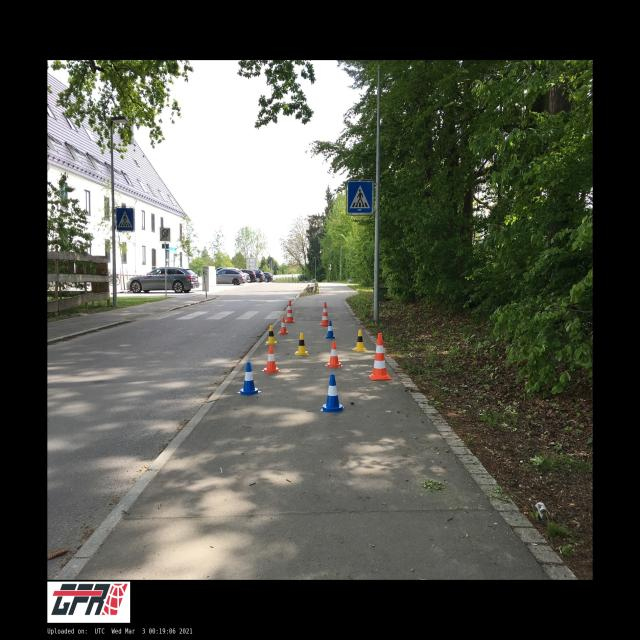blue_cone: (320, 373, 344, 412), (237, 362, 262, 396), (324, 321, 336, 338)
large_orange_cone: (368, 333, 392, 380), (319, 302, 329, 326), (285, 300, 295, 323)
orange_cone: (262, 346, 280, 374), (325, 342, 343, 368), (278, 318, 289, 334)
yellow_cone: (352, 329, 368, 352), (295, 332, 308, 356), (265, 325, 277, 345)
